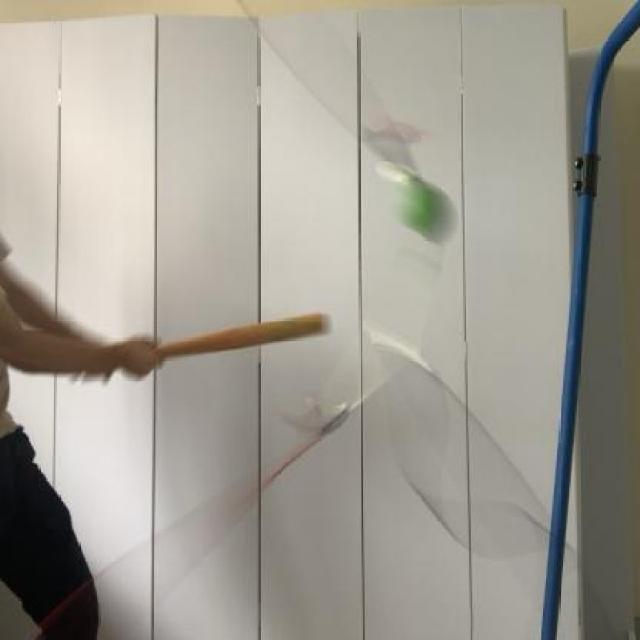baseball: (376, 174, 467, 258)
